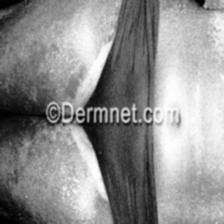Non-Cancerous Skin Condition: (0, 125, 168, 224), (0, 6, 164, 81), (180, 26, 224, 216)
